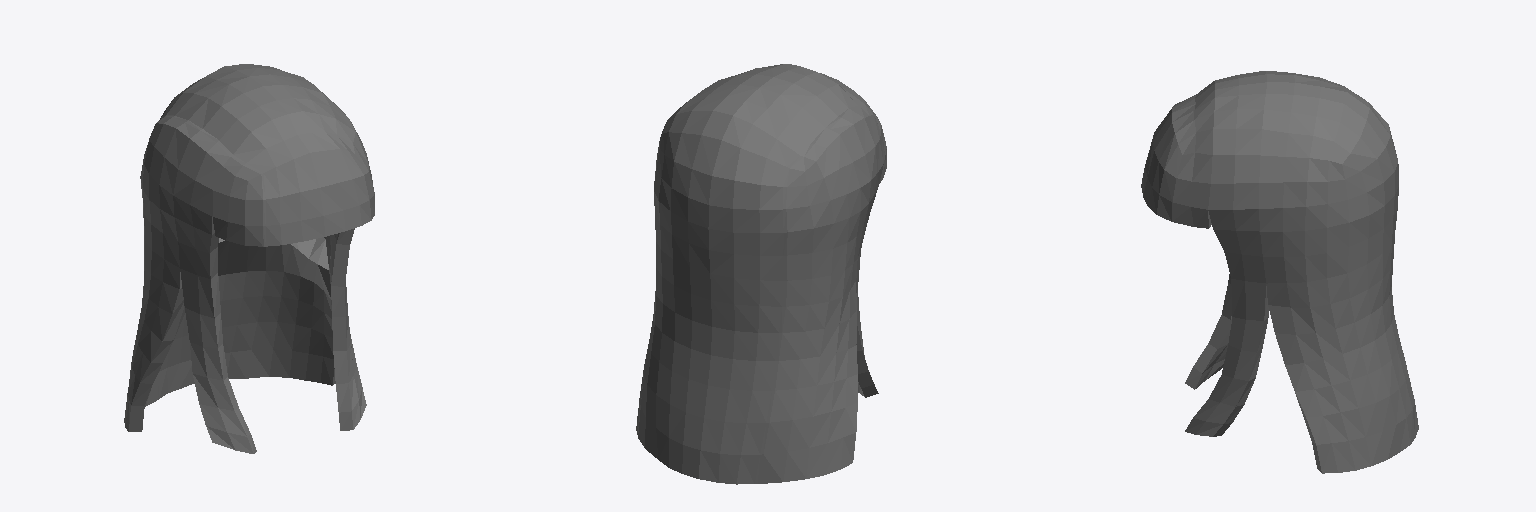
File: LowPoly_FilhaAristocrata_Cabelo01.obj
3 renders of one model, left to right at view 1: azimuth 30°, elevation 25°; view 2: azimuth 150°, elevation 25°; view 3: azimuth 270°, elevation 25°, orthographic.
Parts seen in each view (by area): view 1: LowPoly_FilhaAristocrata_Cabelo01; view 2: LowPoly_FilhaAristocrata_Cabelo01; view 3: LowPoly_FilhaAristocrata_Cabelo01.
Part boxes in pixels (x1,y1,x2,y2): LowPoly_FilhaAristocrata_Cabelo01: (124,64,374,453); LowPoly_FilhaAristocrata_Cabelo01: (636,64,886,484); LowPoly_FilhaAristocrata_Cabelo01: (1141,71,1418,473).
Bounding box in the file's own units: 19.23 × 30.01 × 21.69.